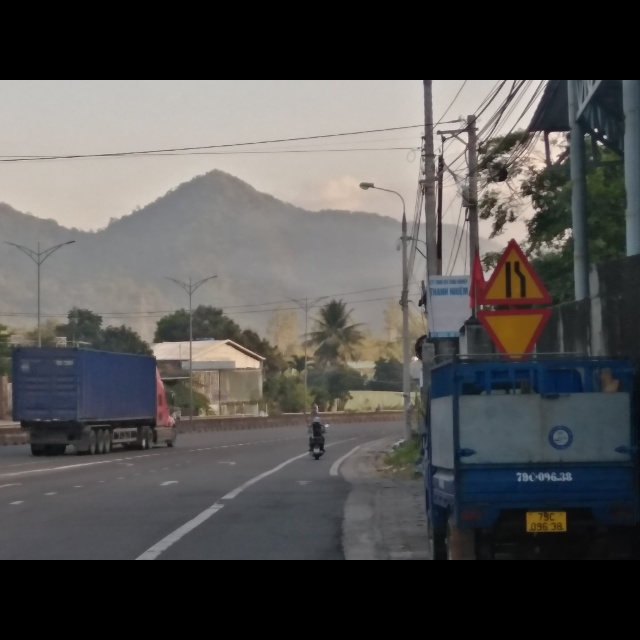Giao nhau với đường ưu tiên: (475, 308, 551, 359)
Đường bị hẹp bên phải: (477, 239, 548, 305)
